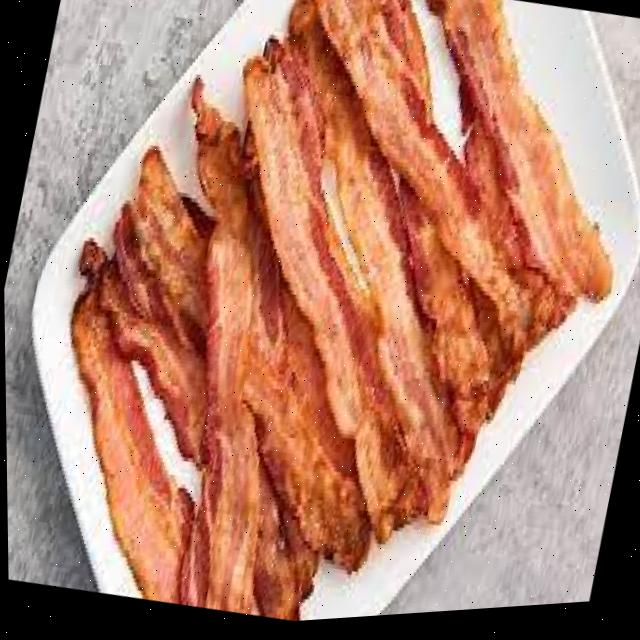Bacon: (322, 0, 527, 358), (319, 69, 457, 522), (432, 0, 611, 305), (245, 63, 360, 440), (179, 145, 269, 615), (70, 291, 192, 603), (241, 284, 369, 574), (401, 187, 488, 439), (98, 262, 203, 463), (130, 149, 207, 332)
